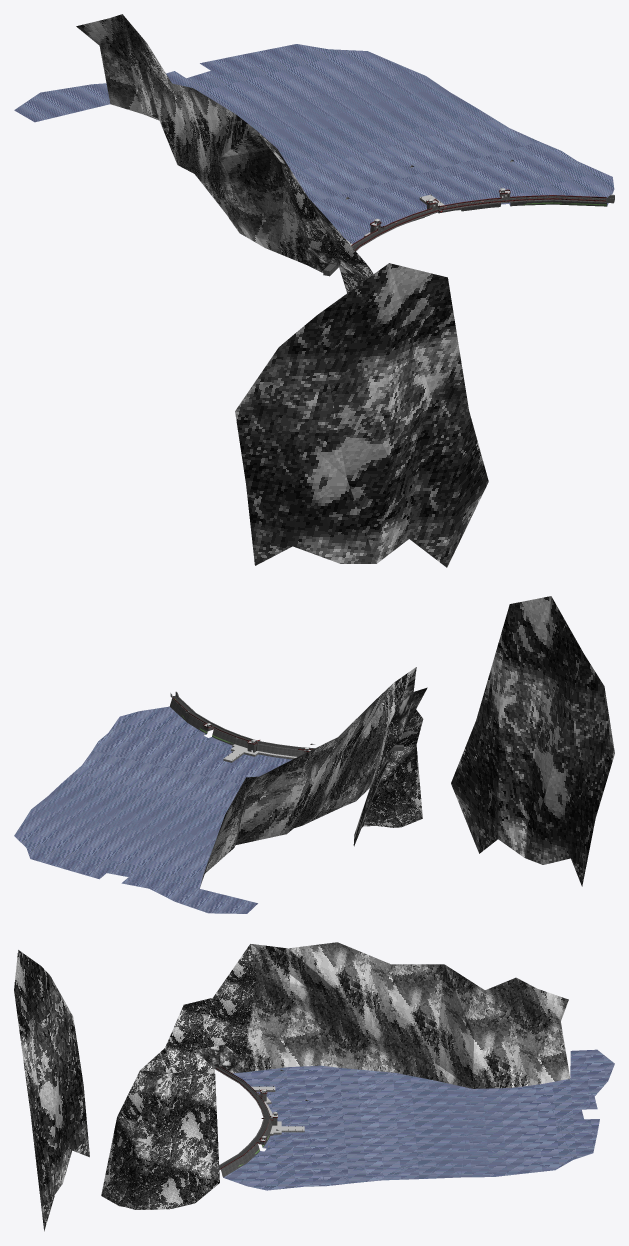
The model's file is dam11.obj.
3 renders of one model, top to bottom at view 1: azimuth 30°, elevation 25°; view 2: azimuth 150°, elevation 25°; view 3: azimuth 270°, elevation 25°, orthographic. The views are drawn at different scales.
Parts seen in each view (by area): view 1: 005_4E6D6411_c.bmp, 000_250FD62A_c.bmp, 001_250FD62A_c.bmp, 007_103AE2DC_c.bmp, 004_103AE2DC_c.bmp, 006_103AE2DC_c.bmp, 003_250FD62A_c.bmp; view 2: 005_4E6D6411_c.bmp, 000_250FD62A_c.bmp, 001_250FD62A_c.bmp, 007_103AE2DC_c.bmp, 006_103AE2DC_c.bmp, 002_250FD62A_c.bmp, 003_250FD62A_c.bmp, 004_103AE2DC_c.bmp, 040_25813CA2_c.bmp; view 3: 005_4E6D6411_c.bmp, 007_103AE2DC_c.bmp, 002_250FD62A_c.bmp, 006_103AE2DC_c.bmp, 000_250FD62A_c.bmp, 003_250FD62A_c.bmp, 004_103AE2DC_c.bmp, 001_250FD62A_c.bmp.
Part boxes in pixels (x1,y1,x2,y2): 005_4E6D6411_c.bmp: [14, 44, 614, 243]; 000_250FD62A_c.bmp: [235, 263, 468, 565]; 001_250FD62A_c.bmp: [340, 392, 488, 567]; 007_103AE2DC_c.bmp: [141, 52, 264, 247]; 004_103AE2DC_c.bmp: [220, 114, 306, 264]; 006_103AE2DC_c.bmp: [76, 14, 171, 120]; 003_250FD62A_c.bmp: [256, 130, 373, 279]; 005_4E6D6411_c.bmp: [14, 706, 291, 913]; 000_250FD62A_c.bmp: [476, 596, 614, 886]; 001_250FD62A_c.bmp: [451, 711, 545, 864]; 007_103AE2DC_c.bmp: [287, 683, 393, 833]; 006_103AE2DC_c.bmp: [200, 753, 305, 887]; 002_250FD62A_c.bmp: [353, 719, 423, 846]; 003_250FD62A_c.bmp: [380, 667, 427, 769]; 004_103AE2DC_c.bmp: [370, 667, 416, 786]; 040_25813CA2_c.bmp: [217, 731, 297, 756]; 005_4E6D6411_c.bmp: [223, 1049, 614, 1190]; 007_103AE2DC_c.bmp: [288, 942, 444, 1079]; 002_250FD62A_c.bmp: [101, 1069, 219, 1209]; 006_103AE2DC_c.bmp: [431, 964, 570, 1088]; 000_250FD62A_c.bmp: [14, 950, 89, 1182]; 003_250FD62A_c.bmp: [140, 944, 256, 1073]; 004_103AE2DC_c.bmp: [245, 944, 306, 1071]; 001_250FD62A_c.bmp: [30, 1084, 62, 1231].
Size of the model in its own units: 9.09 by 6.06 by 12.35.
